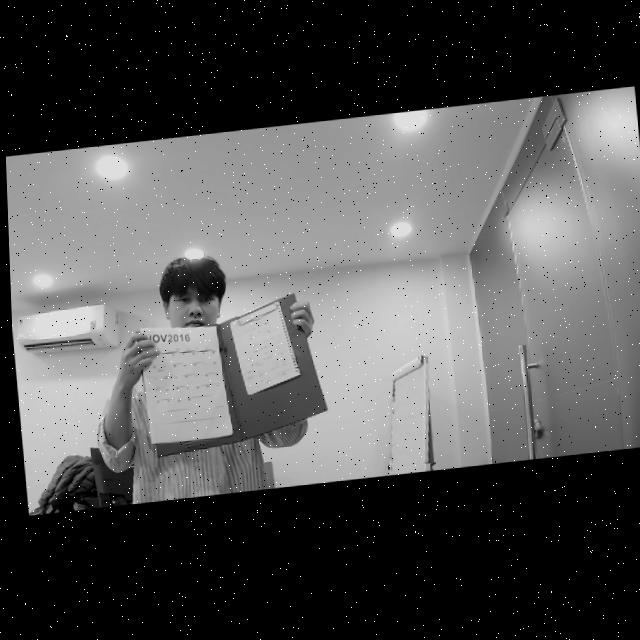document: (140, 326, 234, 444), (229, 300, 301, 396)
face: (156, 265, 229, 331)
